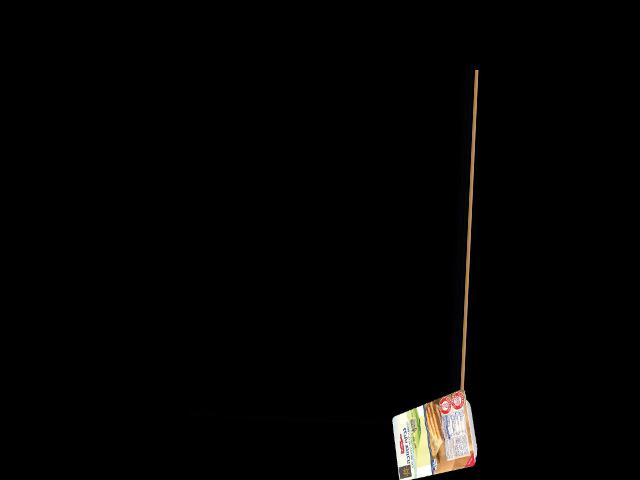cheese: (390, 400, 477, 476)
